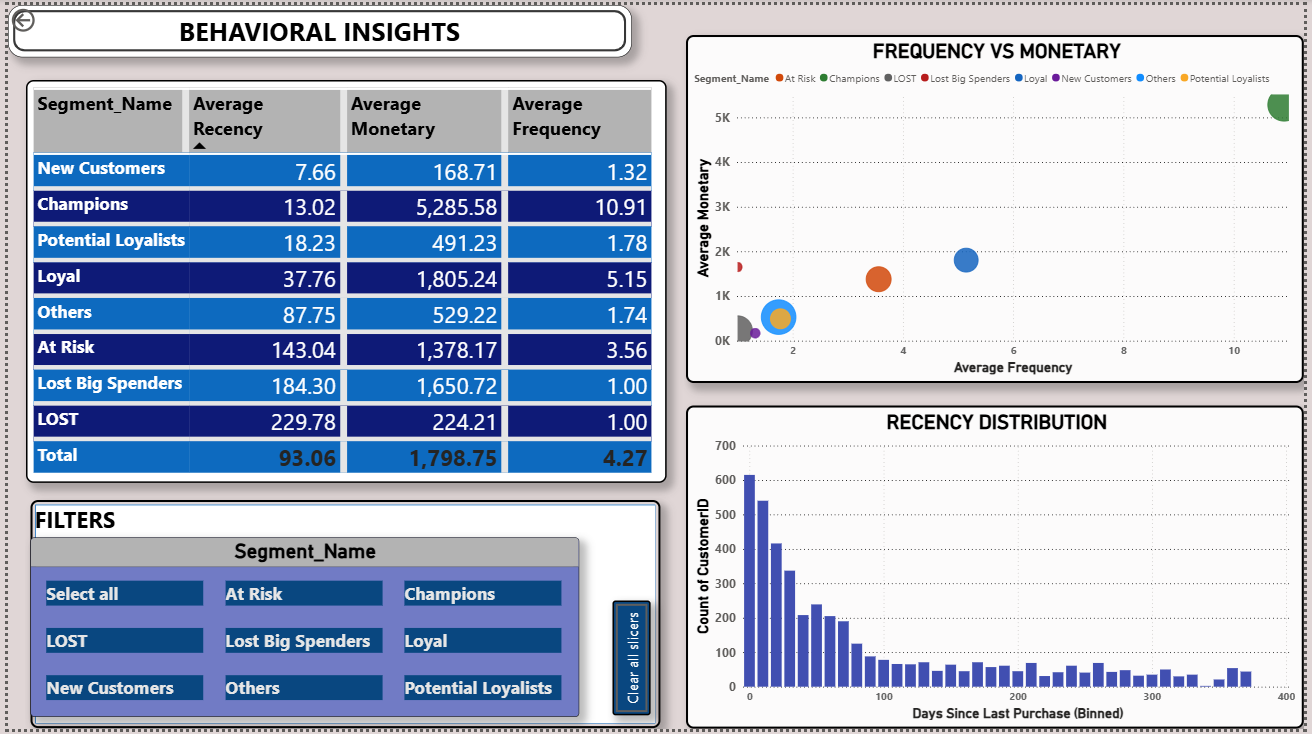

The dashboard page shown, as its layout file describes it:
{"tool":"powerbi","page":{"name":"Behavioral Insights","canvas":[1700,950],"ordinal":1},"visuals":[{"type":"shape","box":[0,0,818.5,68.4],"z":0},{"type":"pivotTable","fields":{"Rows":["rfm_final.Segment_Name"],"Values":["rfm_final.Average Recency","rfm_final.Average Monetary","rfm_final.Average Frequency"]},"box":[24.1,98.5,840.6,528.9],"z":1000},{"type":"actionButton","box":[0,0,100,40],"z":2000},{"type":"scatterChart","title":"FREQUENCY VS MONETARY","fields":{"X":["rfm_final.Average Frequency"],"Y":["rfm_final.Average Monetary"],"Series":["rfm_final.Segment_Name"],"Size":["rfm_final.Total Customers"]},"box":[888.9,40.2,810.5,456.5],"z":3000},{"type":"clusteredColumnChart","title":"RECENCY DISTRIBUTION","fields":{"Category":["rfm_final.Recency (bins)"],"Y":["Count(rfm_final.CustomerID)"]},"box":[888.9,524.9,810.5,424.3],"z":4000},{"type":"shape","box":[30.2,649.6,826.5,299.6],"z":5000},{"type":"advancedSlicerVisual","fields":{"Values":["rfm_final.Segment_Name"]},"box":[30.2,697.8,720,235.3],"z":6000},{"type":"actionButton","box":[792.4,782.3,50.3,150.8],"z":7000}]}

Visuals, with their boxes in screenshot pixels (x1, y1, x2, y2), scaled from the page's 1700x950 canvas onto the 1312x734 screenshot:
shape: 0/0/632/53
pivotTable - rfm_final.Segment_Name x rfm_final.Average Recency: 19/76/667/485
actionButton: 0/0/77/31
"FREQUENCY VS MONETARY" scatterChart: 686/31/1311/384
"RECENCY DISTRIBUTION" clusteredColumnChart: 686/406/1311/733
shape: 23/502/661/733
advancedSlicerVisual - rfm_final.Segment_Name: 23/539/579/721
actionButton: 612/604/650/721
